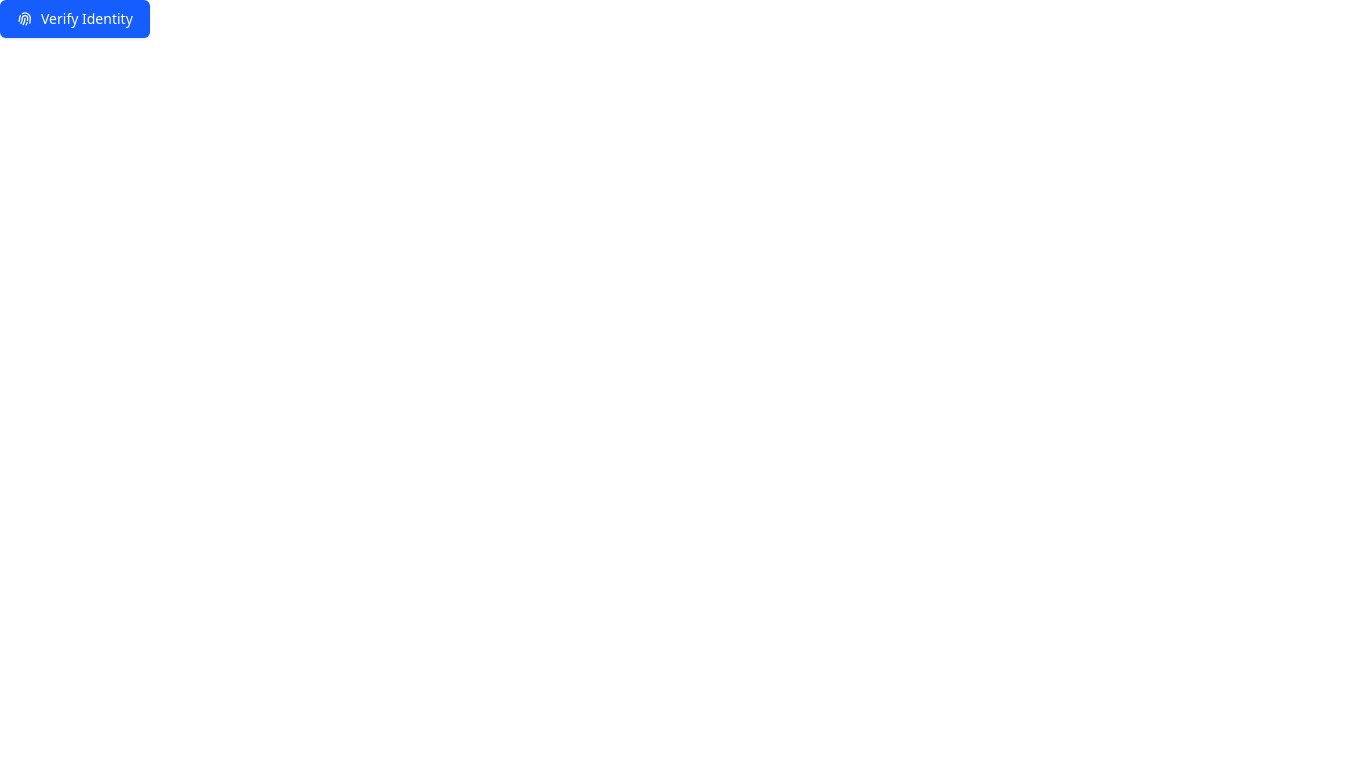
Scenario: EkycField › render modes › renders modal mode correctly
This screenshot has width=1366, height=768.
Click the button "Verify Identity". click: click(75, 19)
box: [0,0,150,38]
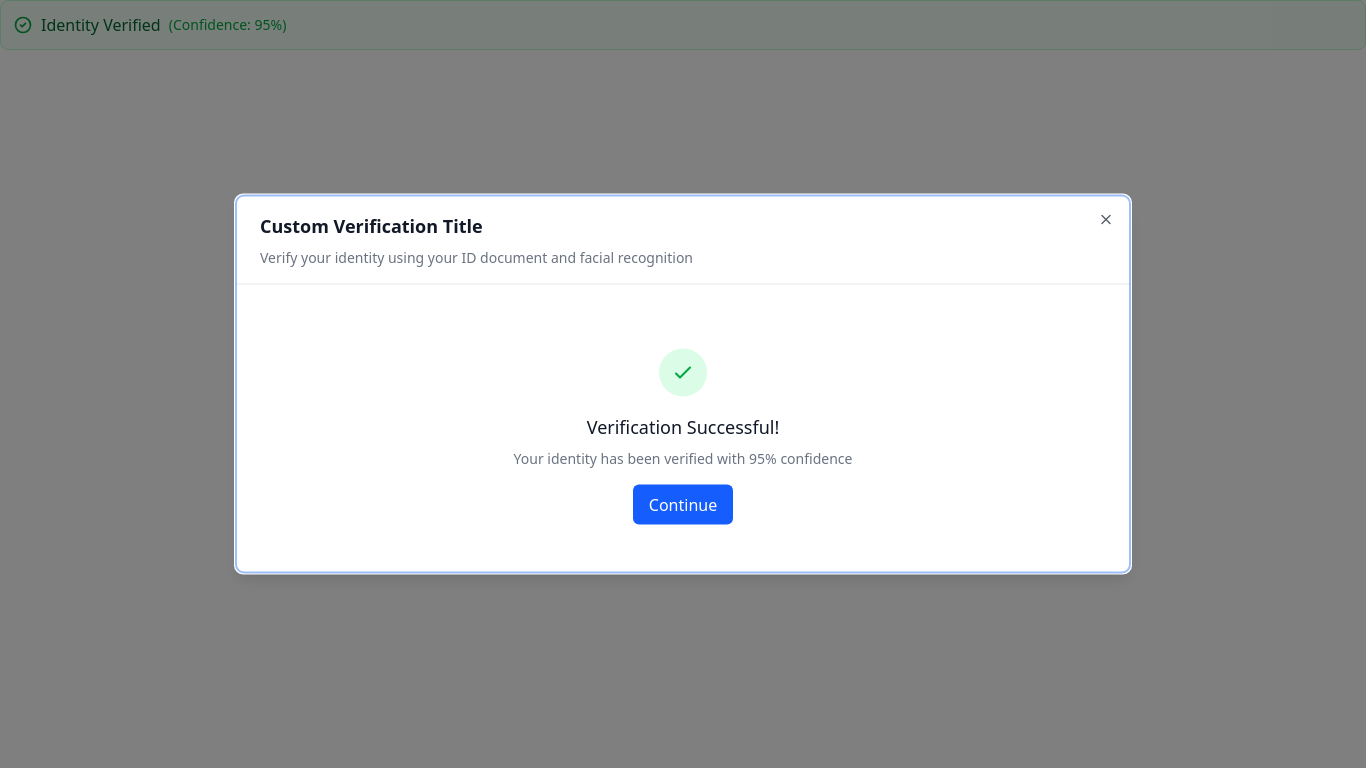
Now the heading "Custom Verification Title" is shown, box [260,214,483,238]
